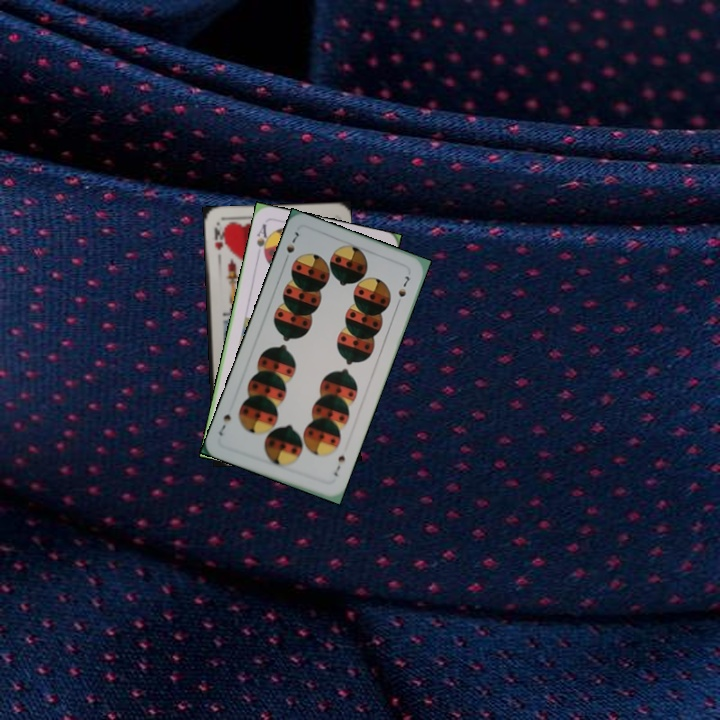HK: (210, 221, 226, 252)
S7: (282, 227, 301, 256), (330, 451, 348, 479)
SA: (253, 220, 273, 261)
